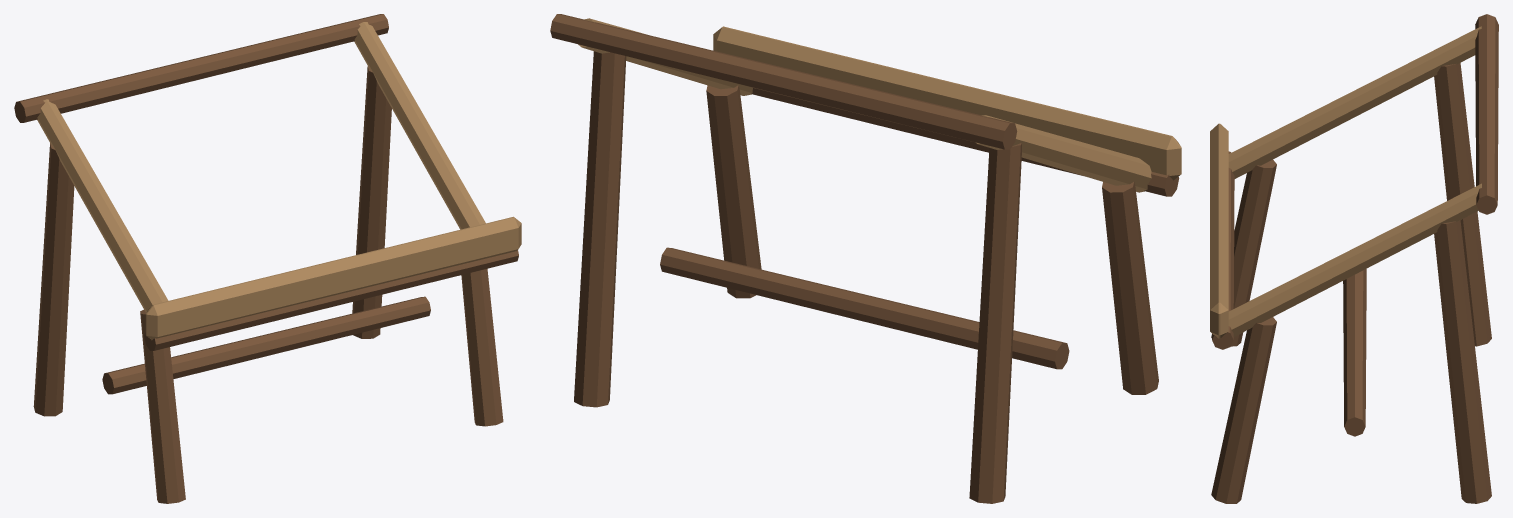
The picture shows the model from 3 angles, left to right: view 1: azimuth 30°, elevation 25°; view 2: azimuth 150°, elevation 25°; view 3: azimuth 270°, elevation 25°; orthographic projection. The views are drawn at different scales.
Parts seen in each view (by area): view 1: BA-0016 batched; view 2: BA-0016 batched; view 3: BA-0016 batched.
Boxes of the visible parts, <box> form: BA-0016 batched: <box>14,14,521,503</box>; BA-0016 batched: <box>550,14,1181,503</box>; BA-0016 batched: <box>1210,14,1498,503</box>.
Size of the model in its own units: 1.3 by 1.03 by 0.8525.
